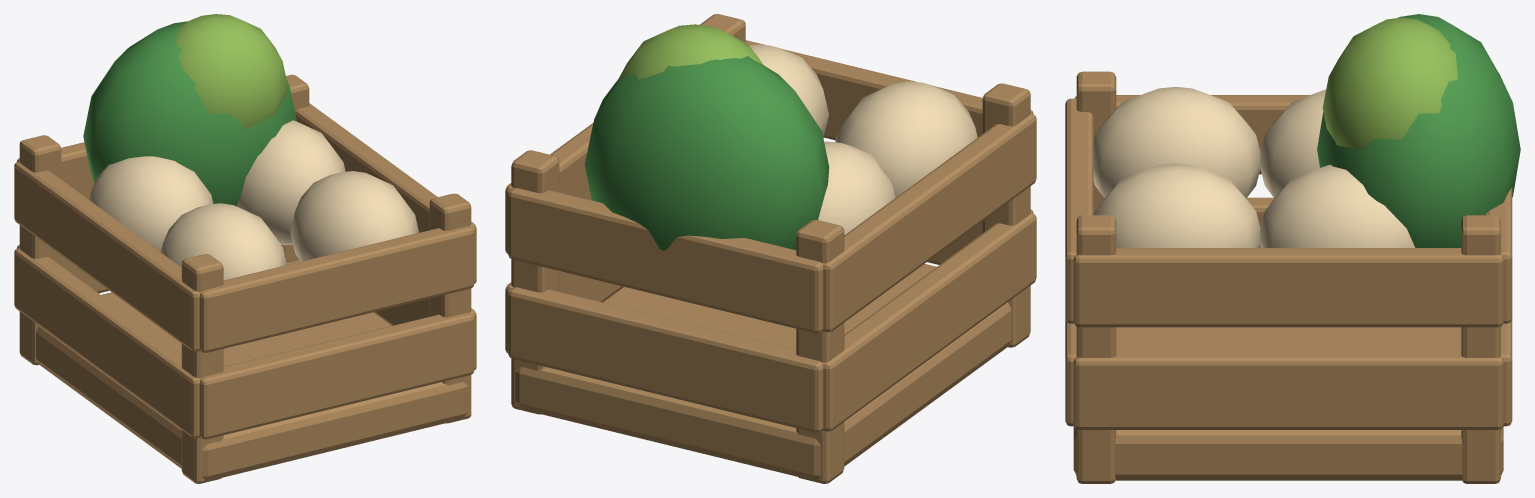
File: EggBox.fbx
The picture shows the model from 3 angles, left to right: view 1: azimuth 30°, elevation 25°; view 2: azimuth 150°, elevation 25°; view 3: azimuth 270°, elevation 25°; orthographic projection. The views are drawn at different scales.
Visible parts, largest first — view 1: 采购_蛋菜筐_筐底, 采购_蛋菜筐_筐边.006, 采购_蛋菜筐_筐边.002, 采购_蛋菜筐_青菜, 采购_蛋菜筐_筐边.004, 采购_蛋菜筐_筐边, 采购_蛋菜筐_嫩叶, 采购_蛋菜筐_蛋.001, 采购_蛋菜筐_蛋.002, 采购_蛋菜筐_蛋.003, 采购_蛋菜筐_蛋, 采购_蛋菜筐_筐边.005 (+7 smaller); view 2: 采购_蛋菜筐_青菜, 采购_蛋菜筐_筐底, 采购_蛋菜筐_筐边.003, 采购_蛋菜筐_筐边.007, 采购_蛋菜筐_筐边, 采购_蛋菜筐_筐边.004, 采购_蛋菜筐_蛋, 采购_蛋菜筐_蛋.002, 采购_蛋菜筐_角.001, 采购_蛋菜筐_嫩叶, 采购_蛋菜筐_筐边.006, 采购_蛋菜筐_角 (+6 smaller); view 3: 采购_蛋菜筐_筐边.005, 采购_蛋菜筐_筐边.001, 采购_蛋菜筐_筐底, 采购_蛋菜筐_青菜, 采购_蛋菜筐_嫩叶, 采购_蛋菜筐_蛋, 采购_蛋菜筐_蛋.001, 采购_蛋菜筐_蛋.003, 采购_蛋菜筐_角.002, 采购_蛋菜筐_角.003, 采购_蛋菜筐_蛋.002, 采购_蛋菜筐_筐边.006 (+5 smaller).
Part boxes in pixels (x1,y1,x2,y2): 采购_蛋菜筐_筐底: [36, 260, 467, 481]; 采购_蛋菜筐_筐边.006: [199, 226, 474, 352]; 采购_蛋菜筐_筐边.002: [199, 312, 474, 439]; 采购_蛋菜筐_青菜: [83, 21, 296, 206]; 采购_蛋菜筐_筐边.004: [14, 161, 200, 351]; 采购_蛋菜筐_筐边: [14, 248, 200, 438]; 采购_蛋菜筐_嫩叶: [176, 14, 288, 129]; 采购_蛋菜筐_蛋.001: [290, 171, 418, 261]; 采购_蛋菜筐_蛋.002: [89, 156, 213, 251]; 采购_蛋菜筐_蛋.003: [237, 120, 345, 245]; 采购_蛋菜筐_蛋: [161, 203, 286, 280]; 采购_蛋菜筐_筐边.005: [295, 103, 476, 283]; 采购_蛋菜筐_青菜: [584, 56, 829, 250]; 采购_蛋菜筐_筐底: [515, 264, 1011, 480]; 采购_蛋菜筐_筐边.003: [508, 287, 823, 432]; 采购_蛋菜筐_筐边.007: [508, 188, 823, 333]; 采购_蛋菜筐_筐边: [822, 213, 1036, 431]; 采购_蛋菜筐_筐边.004: [823, 114, 1036, 332]; 采购_蛋菜筐_蛋: [835, 81, 977, 197]; 采购_蛋菜筐_蛋.002: [818, 141, 895, 234]; 采购_蛋菜筐_角.001: [796, 220, 844, 483]; 采购_蛋菜筐_嫩叶: [618, 24, 763, 82]; 采购_蛋菜筐_筐边.006: [745, 40, 1033, 140]; 采购_蛋菜筐_角: [982, 83, 1030, 347]; 采购_蛋菜筐_筐边.005: [1073, 248, 1503, 327]; 采购_蛋菜筐_筐边.001: [1073, 350, 1503, 429]; 采购_蛋菜筐_筐底: [1073, 327, 1503, 480]; 采购_蛋菜筐_青菜: [1317, 14, 1520, 247]; 采购_蛋菜筐_嫩叶: [1322, 17, 1457, 150]; 采购_蛋菜筐_蛋: [1093, 87, 1260, 198]; 采购_蛋菜筐_蛋.001: [1094, 163, 1260, 247]; 采购_蛋菜筐_蛋.003: [1260, 164, 1415, 247]; 采购_蛋菜筐_角.002: [1076, 215, 1116, 483]; 采购_蛋菜筐_角.003: [1461, 215, 1500, 483]; 采购_蛋菜筐_蛋.002: [1260, 89, 1326, 198]; 采购_蛋菜筐_筐边.006: [1065, 98, 1093, 323].
Size of the model in its own units: 0.345 by 0.38 by 0.4025.
